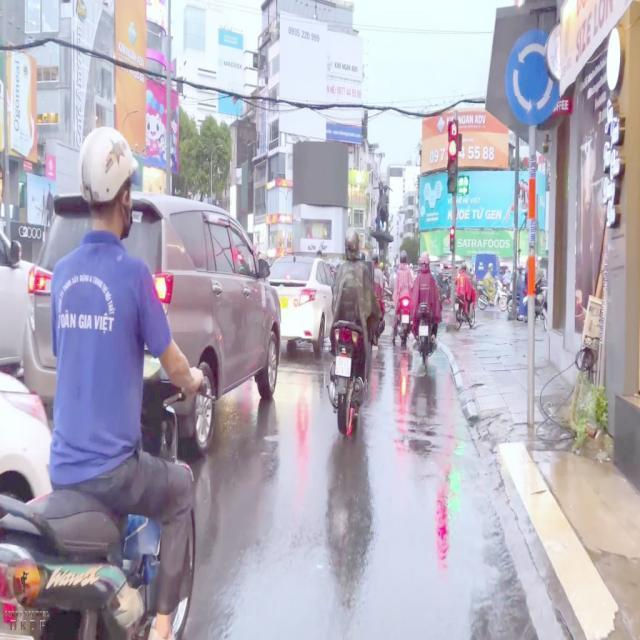303-noi-giao-nhau-chay-theo-vong-xuyen: (504, 28, 560, 126)
